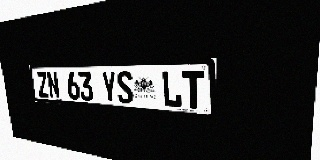3: (78, 71, 94, 101)
6: (66, 71, 81, 100)
L: (161, 71, 182, 108)
N: (46, 72, 60, 99)
S: (116, 71, 134, 104)
T: (182, 70, 205, 110)
Y: (101, 71, 118, 103)
Z: (36, 72, 49, 98)
